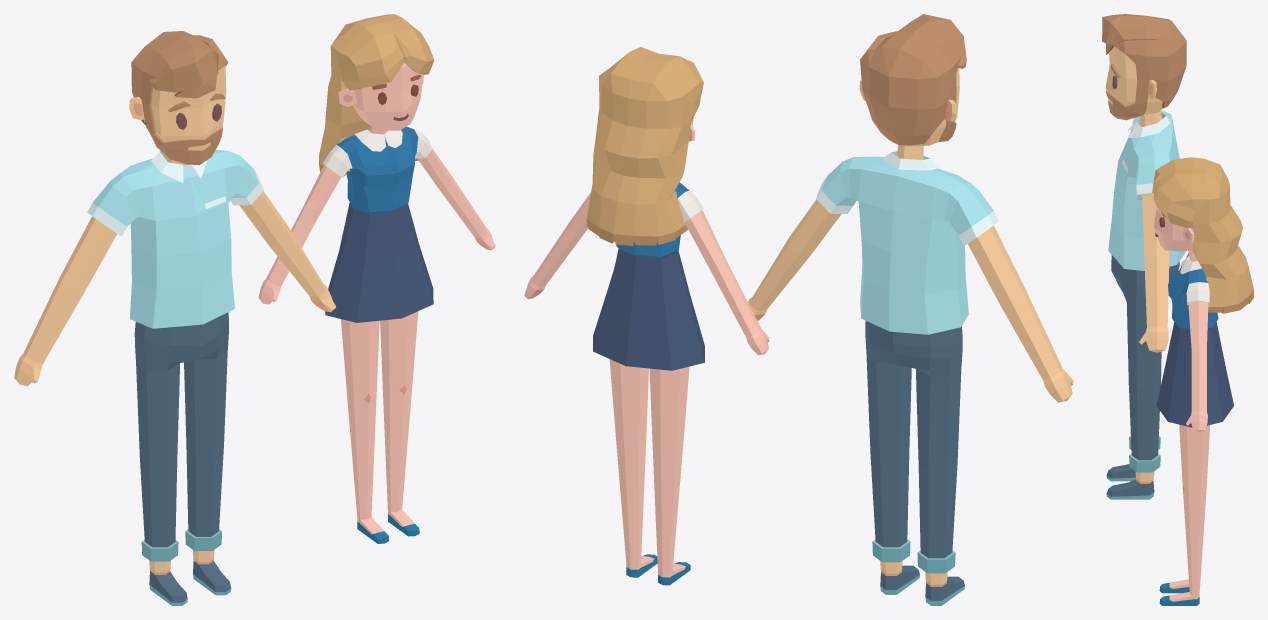
The model's file is boy1.glb.
The picture shows the model from 3 angles, left to right: view 1: azimuth 30°, elevation 25°; view 2: azimuth 150°, elevation 25°; view 3: azimuth 270°, elevation 25°; orthographic projection. The views are drawn at different scales.
Visible parts, largest first — view 1: Object_8, Object_6, Object_4; view 2: Object_8, Object_6, Object_4; view 3: Object_8, Object_6, Object_4.
Boxes of the visible parts, bbox=[...] form: Object_8: bbox=[14, 31, 335, 605]; Object_6: bbox=[258, 63, 495, 543]; Object_4: bbox=[319, 14, 434, 177]; Object_8: bbox=[748, 14, 1073, 605]; Object_6: bbox=[524, 119, 769, 585]; Object_4: bbox=[586, 47, 703, 246]; Object_8: bbox=[1102, 14, 1186, 499]; Object_6: bbox=[1153, 206, 1233, 605]; Object_4: bbox=[1152, 157, 1253, 313].
Size of the model in its own units: 4.35 by 4.68 by 1.33.
1 material, 1 textured.
